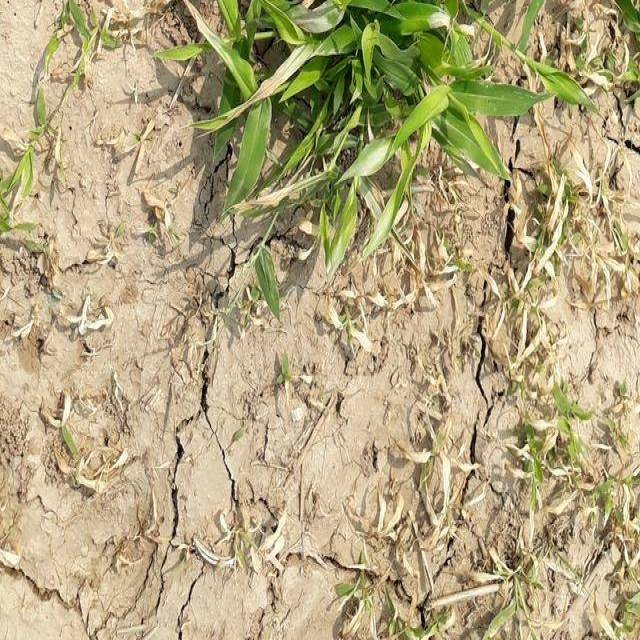weed: (170, 0, 503, 230)
